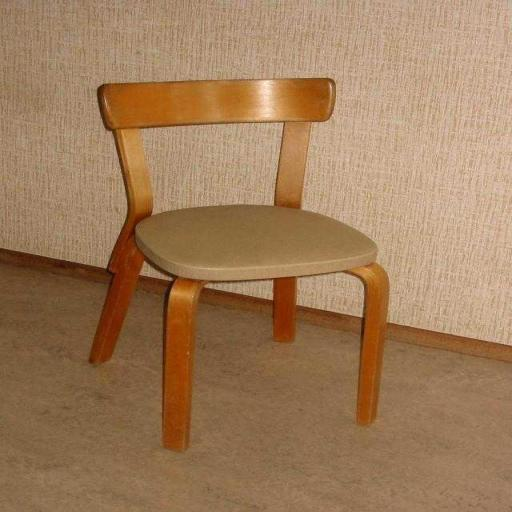chair: (82, 74, 398, 460)
